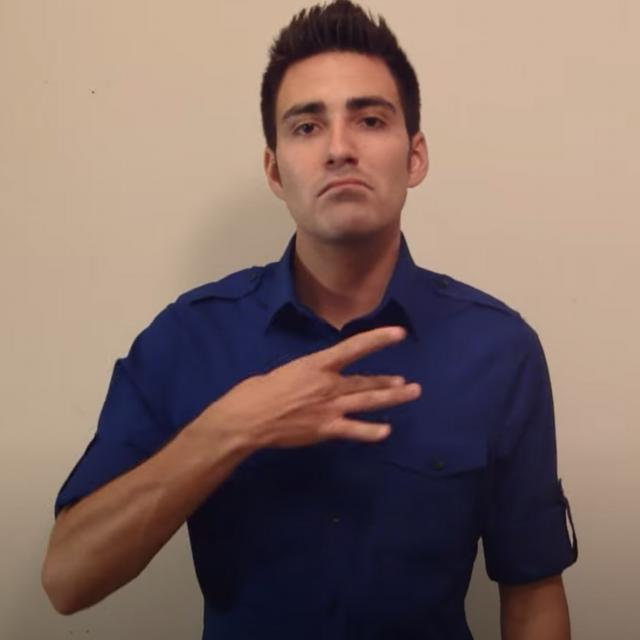like: (259, 327, 421, 448)
